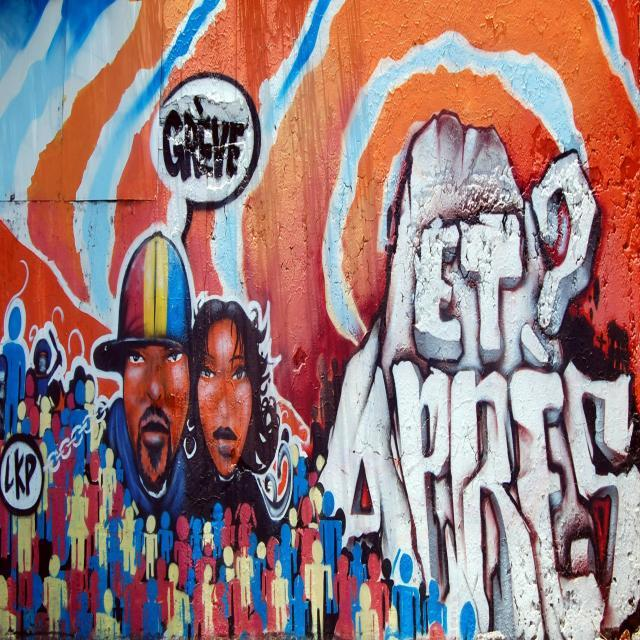-: (0, 0, 640, 640), (315, 150, 640, 640), (162, 95, 244, 190)
